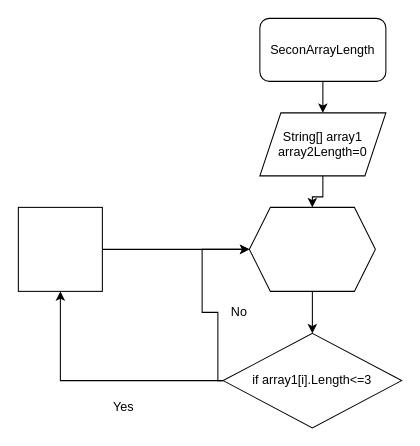
Some shapes in this 420 by 446 pixel diagram are drawn without their labels. The shapes that lost their labels are listed below. From the top down, each one's centre as x and y in pixels, then its label:
(59,248): array2Length= array2Length +1
(311,248): int i = 0; i < array1.Length; i++
